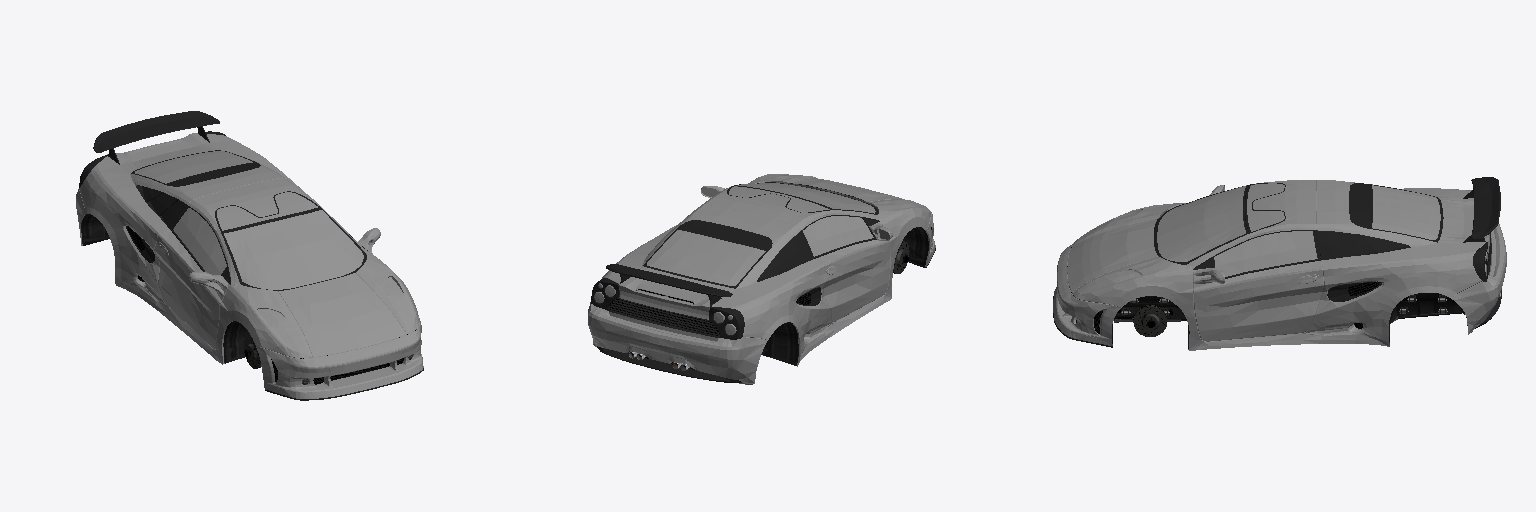
3 views of the same model, side by side, from view 1: azimuth 30°, elevation 25°; view 2: azimuth 150°, elevation 25°; view 3: azimuth 270°, elevation 25° (orthographic).
Visible parts, largest first — view 1: Body; view 2: Body; view 3: Body.
Part boxes in pixels (bbox=[...]): Body: bbox=[76, 111, 423, 400]; Body: bbox=[588, 174, 935, 384]; Body: bbox=[1053, 177, 1506, 350].
Bounding box in the file's own units: 18.84 × 10.67 × 39.01.
Materials: 7 (4 with a texture image).